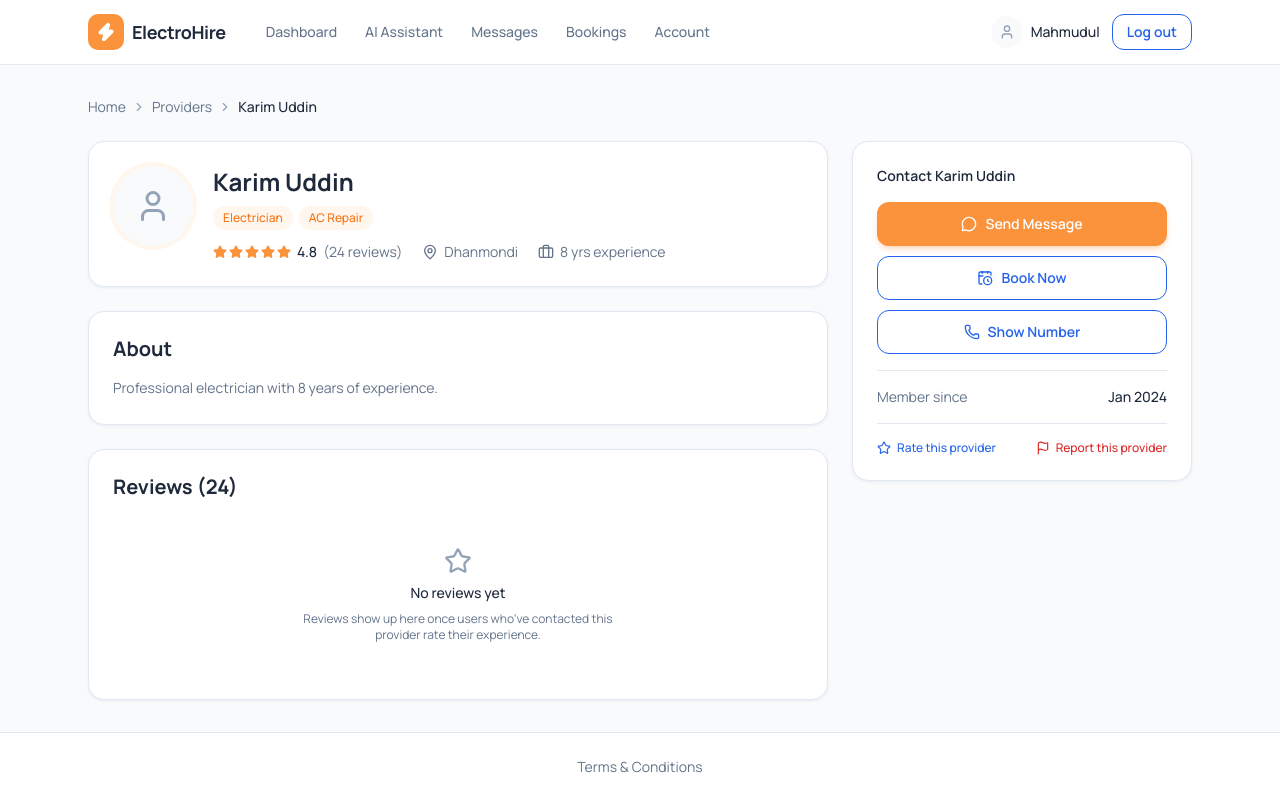
Scenario: ProviderDetailPage › navigates straight into Messages with this provider when Send Message is clicked
Expected: the heading "Karim Uddin" is shown, [213,165,354,198]
What coordinates should you click on to do the following:
click the button "Send Message"
I would click on:
 (1022, 224)
Its box is [877,202,1167,246].
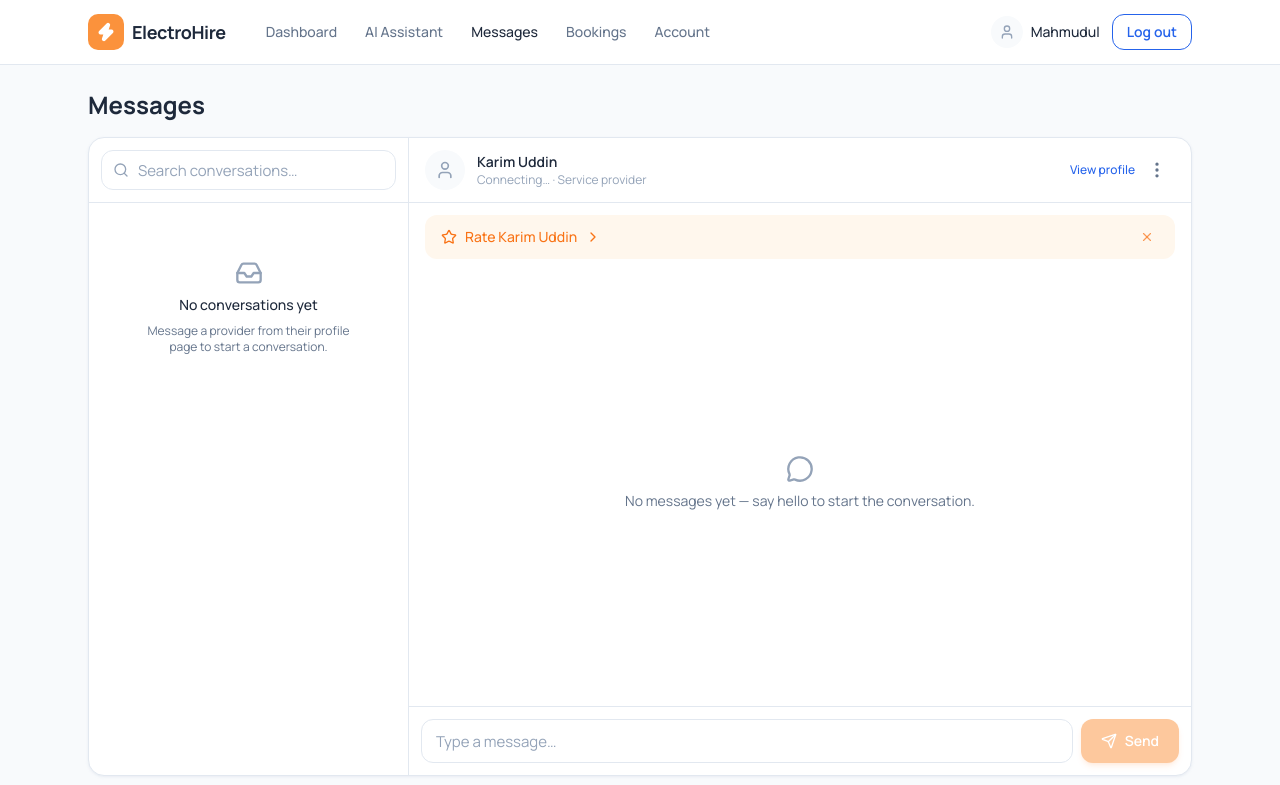
Expected: the heading "Messages" is shown, [88,88,205,121]
Expected: the text "No messages yet — say hello to start the conversation." is shown, [625,490,975,510]
Expected: the field with placeholder "Type a message…" is shown, [421,719,1073,763]
